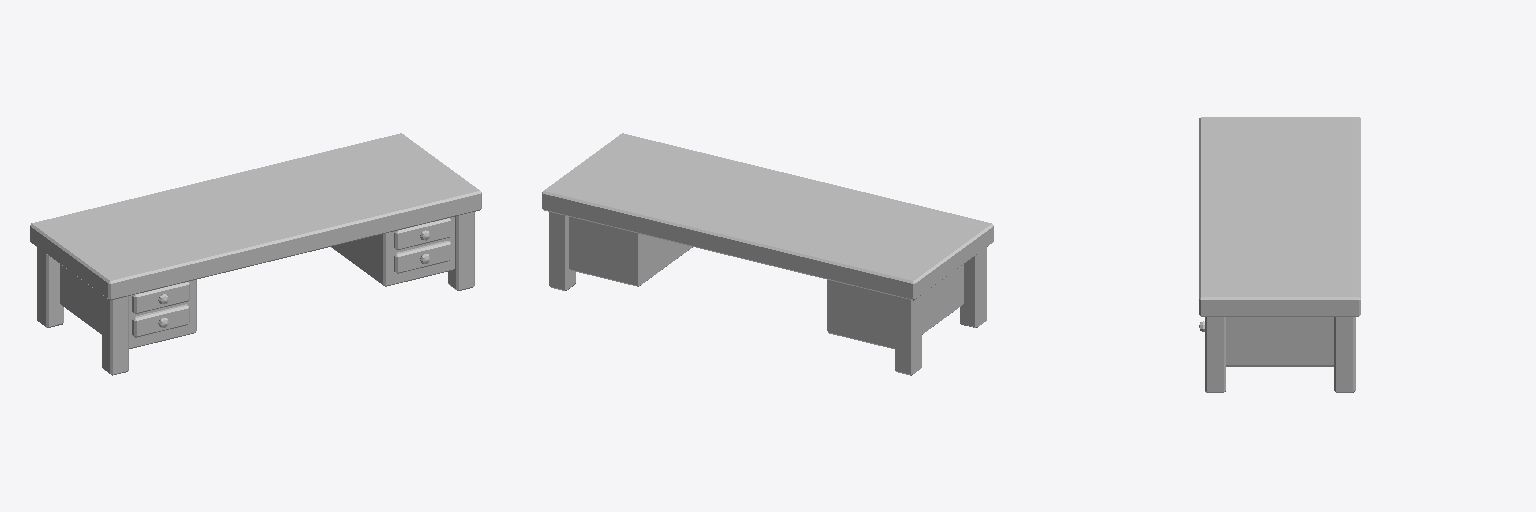
The model's file is desk_large.obj.
3 views of the same model, side by side, from view 1: azimuth 30°, elevation 25°; view 2: azimuth 150°, elevation 25°; view 3: azimuth 270°, elevation 25° (orthographic).
Parts seen in each view (by area): view 1: desk_large_Cube.18255; view 2: desk_large_Cube.18255; view 3: desk_large_Cube.18255.
Boxes of the visible parts, box(x1,y1,x2,y2) form: desk_large_Cube.18255: box(30, 133, 481, 375); desk_large_Cube.18255: box(542, 133, 993, 375); desk_large_Cube.18255: box(1199, 117, 1360, 392).
Bounding box in the file's own units: 4 × 1 × 1.5.